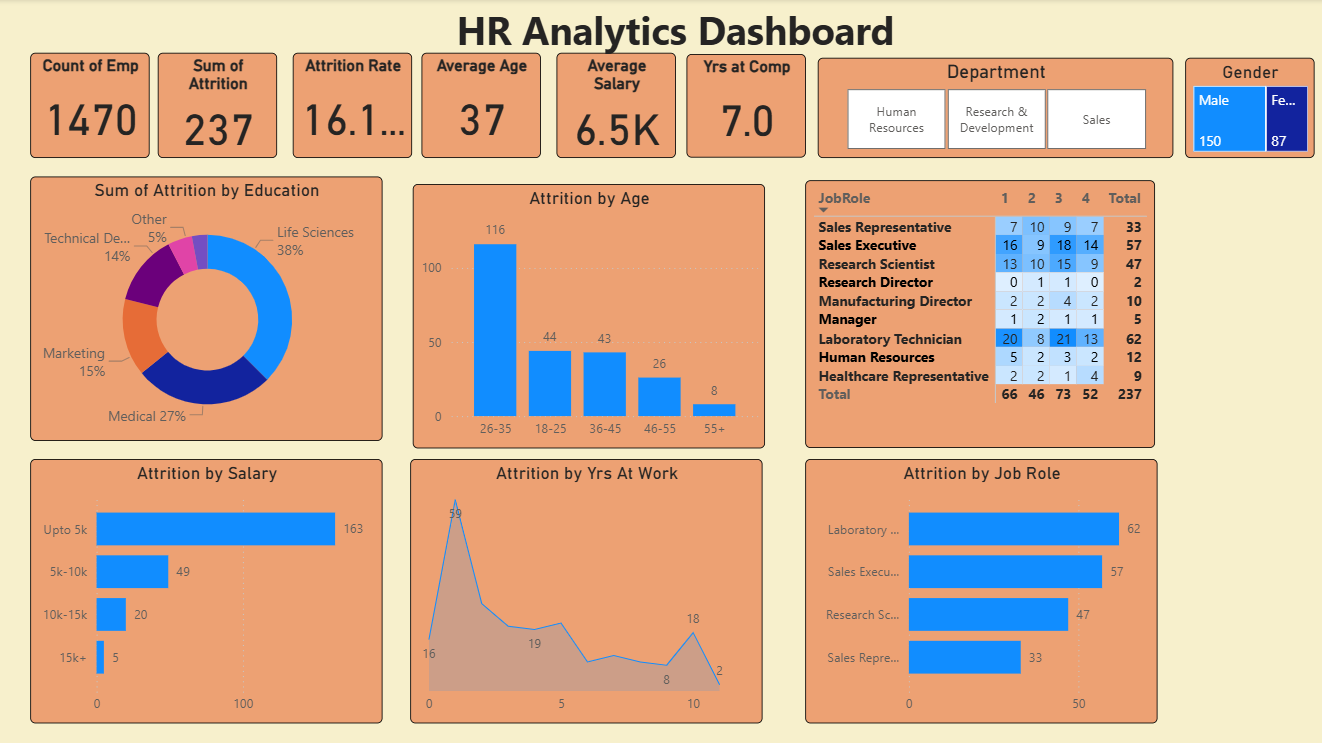

This screenshot's page, from the dashboard's own definition file:
{"tool":"powerbi","page":{"name":"Page 1","canvas":[1280,720],"ordinal":0},"visuals":[{"type":"card","title":"Count of Emp","fields":{"Values":["CountNonNull(HR_Analytics.EmpID)"]},"box":[30.3,52.4,115.2,101.3],"z":0},{"type":"card","title":"Sum of Attrition","fields":{"Values":["Sum(HR_Analytics.Attriton Count)"]},"box":[153.6,52.4,115.2,101.3],"z":1000},{"type":"card","title":"Attrition Rate","fields":{"Values":["HR_Analytics.Attrition Rate"]},"box":[284,52.4,115.2,101.3],"z":2000},{"type":"card","title":"Average Age","fields":{"Values":["Avg(HR_Analytics.Age)"]},"box":[407.3,52.4,115.2,101.3],"z":3000},{"type":"card","title":"Average Salary","fields":{"Values":["Avg(HR_Analytics.MonthlyIncome)"]},"box":[537.7,52.4,115.2,101.3],"z":4000},{"type":"card","title":"Yrs at Comp","fields":{"Values":["Avg(HR_Analytics.YearsAtCompany)"]},"box":[663.4,53.5,115.2,100.1],"z":5000},{"type":"donutChart","title":"Sum of Attrition by Education","fields":{"Category":["HR_Analytics.EducationField"],"Y":["Sum(HR_Analytics.Attriton Count)"]},"box":[30.3,171.1,340,255],"z":6000},{"type":"columnChart","title":"Attrition by Age","fields":{"Y":["Sum(HR_Analytics.Attriton Count)"],"Category":["HR_Analytics.AgeGroup"]},"box":[399.2,178.1,340,255],"z":7000},{"type":"pivotTable","fields":{"Rows":["HR_Analytics.JobRole"],"Columns":["HR_Analytics.JobSatisfaction"],"Values":["Sum(HR_Analytics.Attriton Count)"]},"box":[778.6,174.6,337.5,258.4],"z":8000},{"type":"clusteredBarChart","title":"Attrition by Salary","fields":{"Category":["HR_Analytics.SalarySlab"],"Y":["Sum(HR_Analytics.Attriton Count)"]},"box":[30.3,443.4,340,255],"z":9000},{"type":"clusteredBarChart","title":"Attrition by Job Role","fields":{"Category":["HR_Analytics.JobRole"],"Y":["Sum(HR_Analytics.Attriton Count)"]},"box":[778.6,443.4,340,255],"z":10000},{"type":"areaChart","title":"Attrition by Yrs At Work","fields":{"Category":["HR_Analytics.YearsAtCompany"],"Y":["Sum(HR_Analytics.Attriton Count)"]},"box":[396.9,443.4,340,255],"z":11000},{"type":"treemap","title":"Gender","fields":{"Group":["HR_Analytics.Gender"],"Values":["Sum(HR_Analytics.Attriton Count)"]},"box":[1145.2,57,124.5,96.6],"z":12000},{"type":"slicer","title":"Department","fields":{"Values":["HR_Analytics.Department"]},"box":[790.3,57,343.3,96.6],"z":13000},{"type":"textbox","box":[329.7,0,647,64.6],"z":14000}]}

Visuals, with their boxes in screenshot pixels (x1, y1, x2, y2), scaled from the page's 1280x720 canvas onto the 1322x743 screenshot:
"Count of Emp" card: crop(31, 54, 150, 159)
"Sum of Attrition" card: crop(159, 54, 278, 159)
"Attrition Rate" card: crop(293, 54, 412, 159)
"Average Age" card: crop(421, 54, 540, 159)
"Average Salary" card: crop(555, 54, 674, 159)
"Yrs at Comp" card: crop(685, 55, 804, 159)
"Sum of Attrition by Education" donutChart: crop(31, 177, 382, 440)
"Attrition by Age" columnChart: crop(412, 184, 763, 447)
pivotTable - HR_Analytics.JobRole x HR_Analytics.JobSatisfaction: crop(804, 180, 1153, 447)
"Attrition by Salary" clusteredBarChart: crop(31, 458, 382, 721)
"Attrition by Job Role" clusteredBarChart: crop(804, 458, 1155, 721)
"Attrition by Yrs At Work" areaChart: crop(410, 458, 761, 721)
"Gender" treemap: crop(1183, 59, 1311, 159)
"Department" slicer: crop(816, 59, 1171, 159)
textbox: crop(341, 0, 1009, 67)
